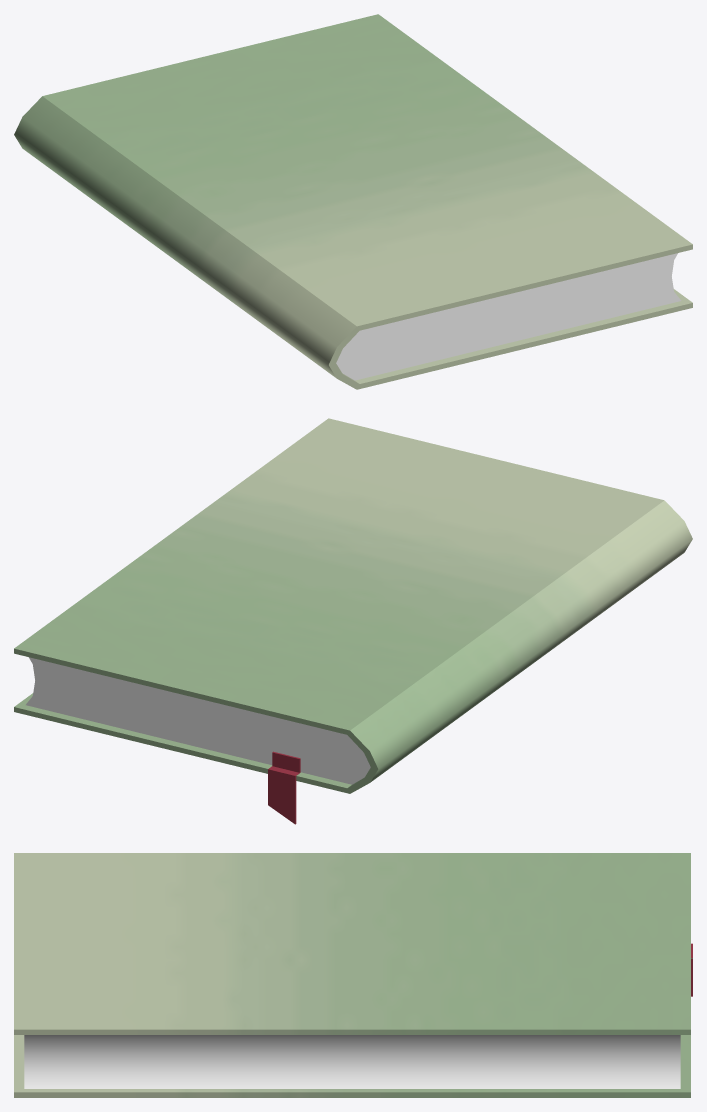
The model's file is book7.fbx.
The picture shows the model from 3 angles, top to bottom: view 1: azimuth 30°, elevation 25°; view 2: azimuth 150°, elevation 25°; view 3: azimuth 270°, elevation 25°; orthographic projection. The views are drawn at different scales.
Parts seen in each view (by area): view 1: book7; view 2: book7; view 3: book7.
Boxes of the visible parts, x1=… form: book7: x1=14, y1=14, x2=692, y2=389; book7: x1=14, y1=418, x2=692, y2=824; book7: x1=14, y1=853, x2=692, y2=1097.
Size of the model in its own units: 18.01 by 5.03 by 27.01.
